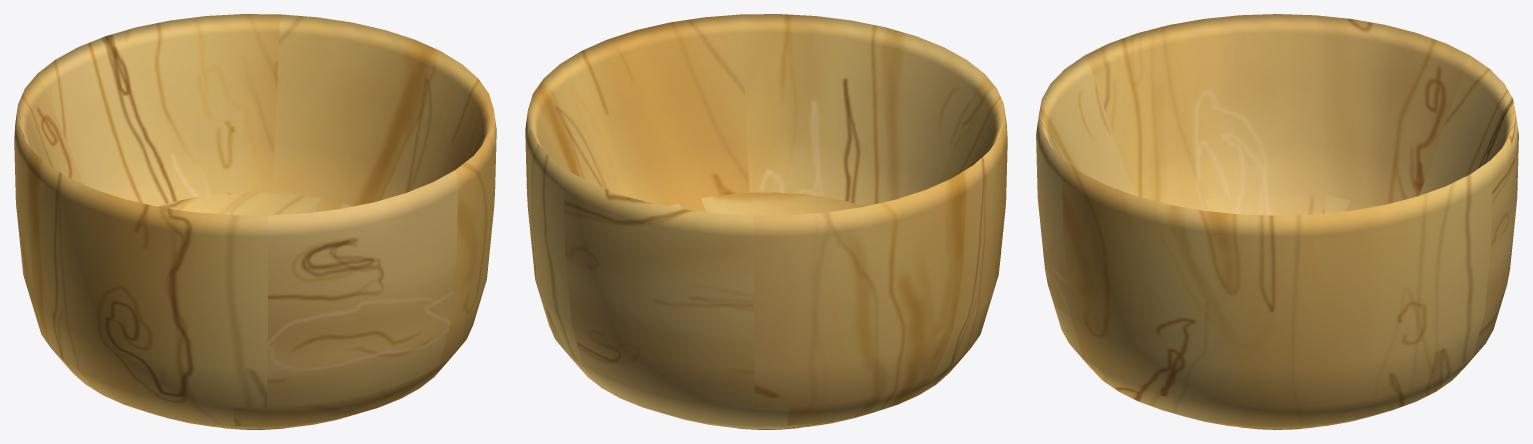
Rendered from bowl_wooden.fbx.
3 views of the same model, side by side, from view 1: azimuth 30°, elevation 25°; view 2: azimuth 150°, elevation 25°; view 3: azimuth 270°, elevation 25° (orthographic).
Parts seen in each view (by area): view 1: pCylinder241; view 2: pCylinder241; view 3: pCylinder241.
Boxes of the visible parts, x1,y1,x2,y2 form: pCylinder241: (14, 14, 496, 429); pCylinder241: (525, 14, 1007, 429); pCylinder241: (1036, 14, 1518, 429).
Bounding box in the file's own units: 1.69 × 1.03 × 1.69.
Materials: 1 (1 with a texture image).
